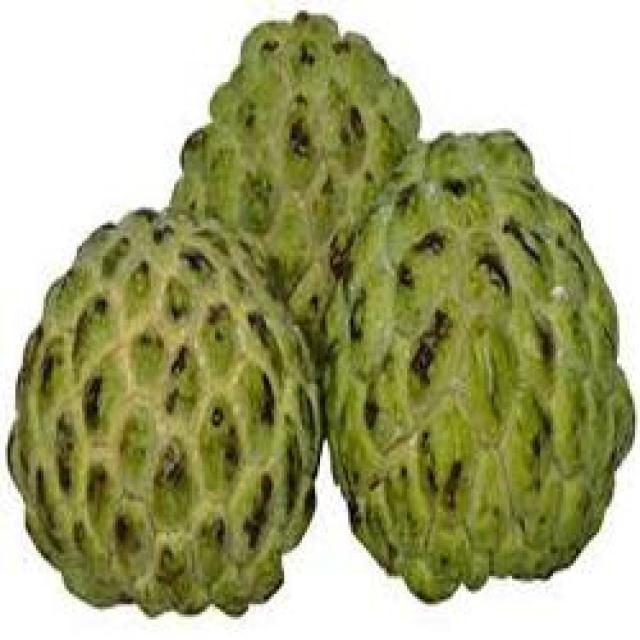apple: (317, 128, 640, 602), (10, 208, 333, 614), (171, 8, 420, 254)
